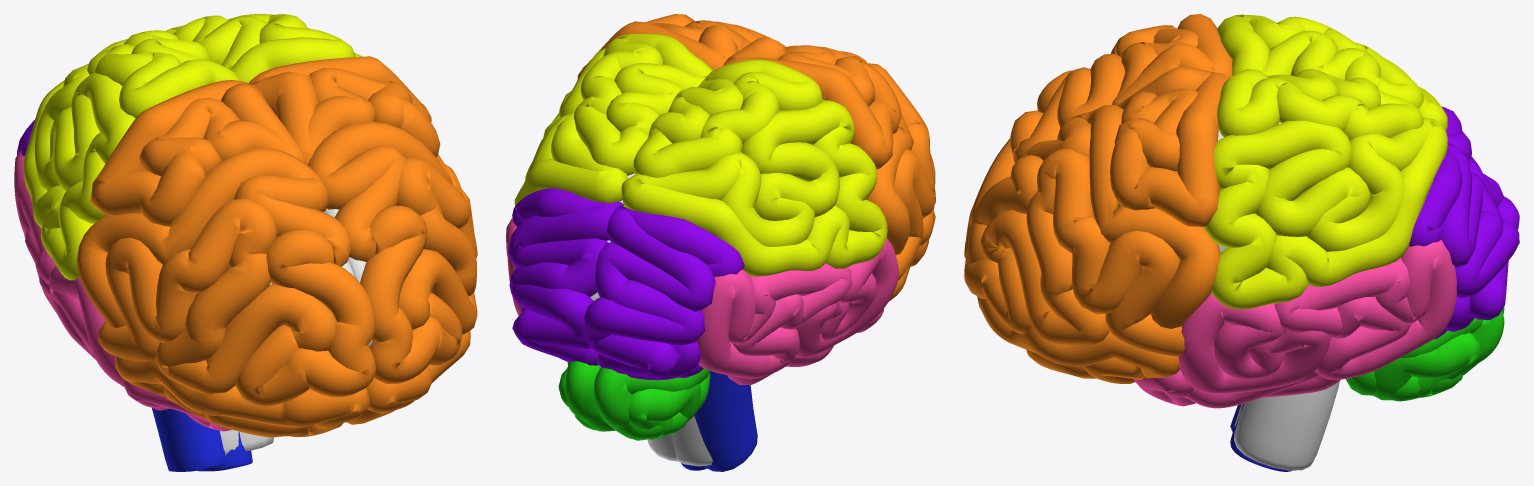
File: Brain3D.fbx
The picture shows the model from 3 angles, left to right: view 1: azimuth 30°, elevation 25°; view 2: azimuth 150°, elevation 25°; view 3: azimuth 270°, elevation 25°; orthographic projection. The views are drawn at different scales.
Parts seen in each view (by area): view 1: L Frontal, R Frontal, L Parietal, R Parietal, L Temporal, L Brain Stem, Cube, R Brain Stem; view 2: L Parietal, L Occipital, L Temporal, R Parietal, L Frontal, R Occipital, L Cerebellum, L Brain Stem, R Frontal, R Cerebellum, Cube; view 3: R Frontal, R Parietal, R Temporal, L Frontal, R Occipital, L Parietal, R Cerebellum, Cube, L Occipital.
Part boxes in pixels (box(x1,y1,x2,y2)): L Frontal: box(76, 80, 375, 437); R Frontal: box(249, 56, 477, 424); L Parietal: box(23, 30, 239, 280); R Parietal: box(166, 14, 362, 82); L Temporal: box(14, 150, 231, 431); L Brain Stem: box(152, 408, 225, 471); Cube: box(220, 208, 372, 455); R Brain Stem: box(197, 432, 252, 471); L Parietal: box(621, 59, 887, 276); L Occipital: box(584, 204, 744, 380); L Temporal: box(696, 238, 898, 384); R Parietal: box(514, 33, 712, 205); L Frontal: box(723, 36, 935, 301); R Occipital: box(508, 188, 622, 365); L Cerebellum: box(593, 367, 710, 440); L Brain Stem: box(694, 371, 757, 471); R Frontal: box(577, 14, 785, 79); R Cerebellum: box(558, 361, 615, 431); Cube: box(590, 99, 822, 466); R Frontal: box(964, 66, 1228, 383); R Parietal: box(1205, 68, 1447, 309); R Temporal: box(1133, 239, 1456, 408); L Frontal: box(964, 14, 1232, 258); R Occipital: box(1409, 143, 1519, 339); L Parietal: box(1217, 14, 1447, 129); R Cerebellum: box(1345, 310, 1504, 401); Cube: box(1204, 122, 1339, 470); L Occipital: box(1442, 106, 1519, 229).
Bounding box in the file's own units: 401 × 454 × 549.
